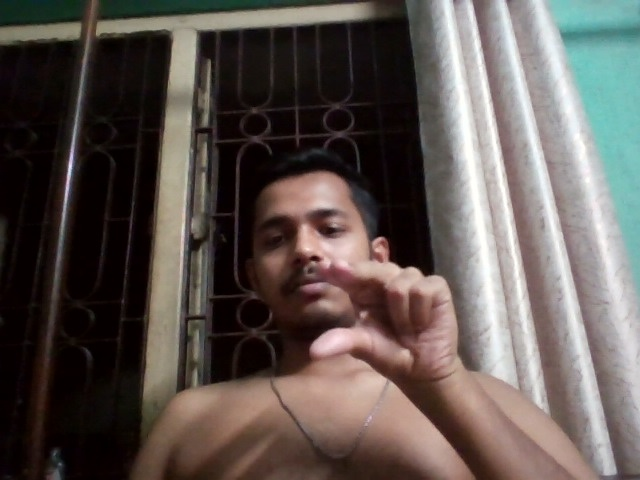No: (304, 246, 476, 376)
